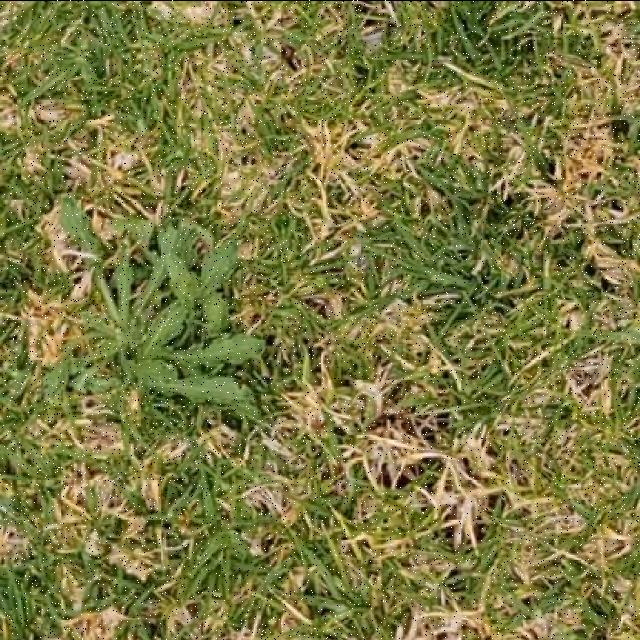weed: (97, 225, 262, 415)
